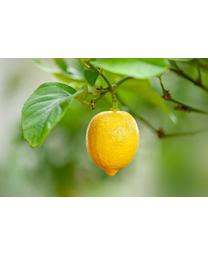lemon: (85, 111, 137, 176)
